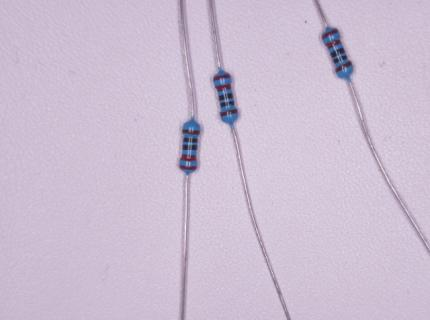Black band: (329, 47, 345, 59), (218, 93, 234, 101), (333, 55, 347, 64), (220, 101, 235, 107), (183, 137, 198, 143), (183, 145, 198, 150)
Brown band: (335, 60, 352, 73), (219, 109, 238, 117), (182, 129, 201, 135)
Red band: (325, 39, 342, 49), (322, 29, 339, 39), (180, 153, 197, 161), (213, 74, 231, 81), (215, 84, 231, 91), (179, 165, 197, 170)
